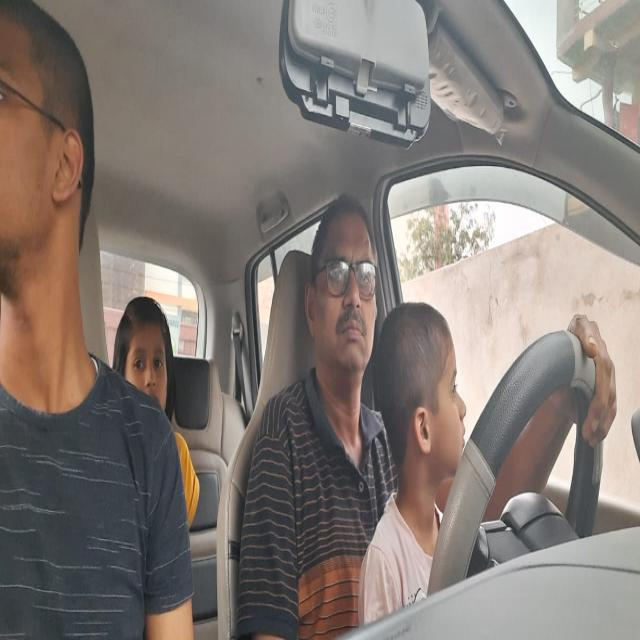person: (0, 4, 103, 323), (375, 303, 477, 483), (306, 183, 383, 380), (114, 286, 180, 438)
